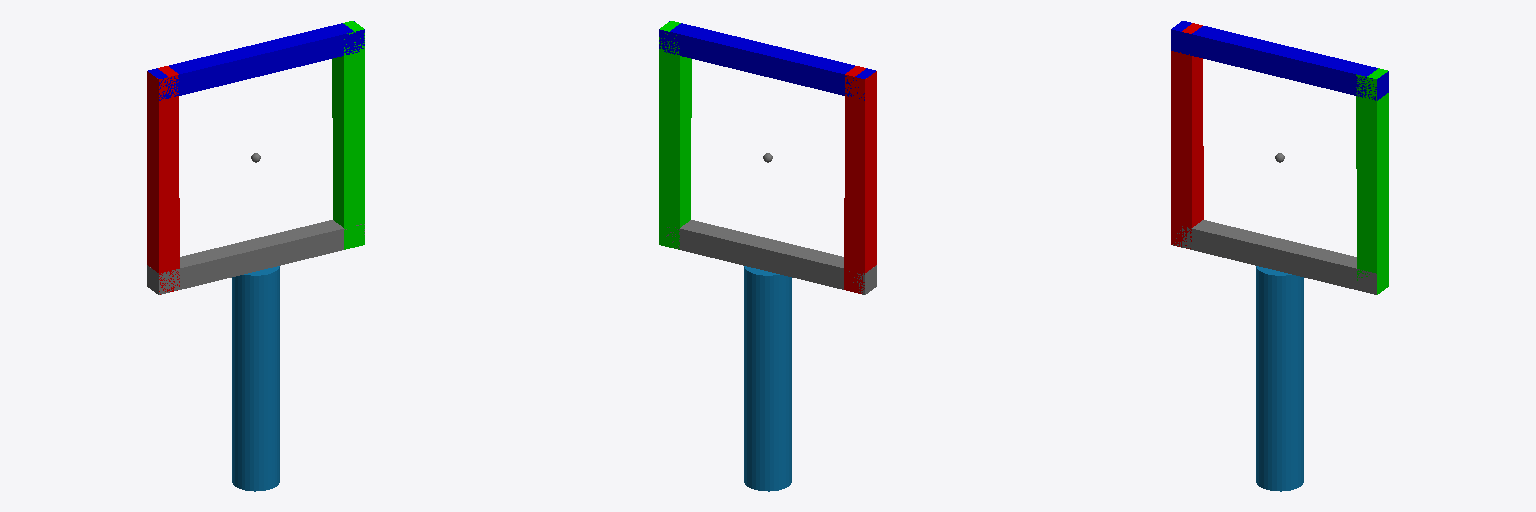
URDF robot description (architrave):
<?xml version="1.0" ?>

<robot name="architrave">

  <link name="base_link"> 
    <inertial>
      <mass value="0.1"/>
      <inertia ixx="0" ixy="0.0" ixz="0.0" iyy="0" iyz="0.0" izz="0"/>
    </inertial>
    <visual>
      <origin rpy="0 0 0" xyz="0 0 0"/>
      <geometry>
        <sphere radius="0.01"/>
      </geometry> 
      <material name="grey">
        <color rgba=".5 .5 .5 1"/>
      </material> 
    </visual>
  </link>



  <link name="grey_edge"> 
    <inertial>
      <origin rpy="0 0 0" xyz="0 0 -0.225"/>
      <mass value="0.25"/>
      <inertia ixx="0" ixy="0.0" ixz="0.0" iyy="0" iyz="0.0" izz="0"/>
    </inertial>
    <visual>
      <origin rpy="0 0 0" xyz="0 0 -0.225"/>
      <geometry>
        <box size=".5 .05 .05" />
      </geometry> 
      <material name="grey">
        <color rgba=".5 .5 .5 1"/>
      </material> 
    </visual>
    <collision>
      <origin rpy="0 0 0" xyz="0 0 -0.225"/>
      <geometry>
        <box size=".5 .05 .05" />
      </geometry>
    </collision>  
  </link>
  <joint name="grey_joint" type="fixed">
    <parent link="base_link"/>
    <child link="grey_edge"/>
  </joint>



  <link name="blue_edge"> 
    <inertial>
      <origin rpy="0 0 0" xyz="0 0 0.225"/>
      <mass value="0.25"/>
      <inertia ixx="0" ixy="0.0" ixz="0.0" iyy="0" iyz="0.0" izz="0"/>
    </inertial>
    <visual>
      <origin rpy="0 0 0" xyz="0 0 0.225"/>
      <geometry>
        <box size=".5 .05 .05" />
      </geometry> 
      <material name="blue">
        <color rgba=".0 .0 .9 1"/>
      </material> 
    </visual>
    <collision>
      <origin rpy="0 0 0" xyz="0 0 0.225"/>
      <geometry>
        <box size=".5 .05 .05" />
      </geometry>
    </collision>  
  </link>
  <joint name="blue_joint" type="fixed">
    <parent link="base_link"/>
    <child link="blue_edge"/>
  </joint>



  <link name="green_edge"> 
    <inertial>
      <origin rpy="0 1.57 0" xyz="0.225 0 0"/>
      <mass value="0.25"/>
      <inertia ixx="0" ixy="0.0" ixz="0.0" iyy="0" iyz="0.0" izz="0"/>
    </inertial>
    <visual>
      <origin rpy="0 1.57 0" xyz="0.225 0 0"/>
      <geometry>
        <box size=".5 .05 .05" />
      </geometry> 
      <material name="green">
        <color rgba=".0 .9 .0 1"/>
      </material> 
    </visual>
    <collision>
      <origin rpy="0 1.57 0" xyz="0.225 0 0"/>
      <geometry>
        <box size=".5 .05 .05" />
      </geometry>
    </collision>  
  </link>
  <joint name="green_joint" type="fixed">
    <parent link="base_link"/>
    <child link="green_edge"/>
  </joint>



  <link name="red_edge"> 
    <inertial>
      <origin rpy="0 1.57 0" xyz="-0.225 0 0"/>
      <mass value="0.25"/>
      <inertia ixx="0" ixy="0.0" ixz="0.0" iyy="0" iyz="0.0" izz="0"/>
    </inertial>
    <visual>
      <origin rpy="0 1.57 0" xyz="-0.225 0 0"/>
      <geometry>
        <box size=".5 .05 .05" />
      </geometry> 
      <material name="red">
        <color rgba=".9 .0 .0 1"/>
      </material> 
    </visual>
    <collision>
      <origin rpy="0 1.57 0" xyz="-0.225 0 0"/>
      <geometry>
        <box size=".5 .05 .05" />
      </geometry>
    </collision>  
  </link>
    <joint name="red_joint" type="fixed">
    <parent link="base_link"/>
    <child link="red_edge"/>
  </joint>


  <link name="support"> 

    <inertial>
      <origin rpy="0 0 0" xyz="0 0 -0.5"/>
      <mass value="1.0"/>
      <inertia ixx="0" ixy="0.0" ixz="0.0" iyy="0" iyz="0.0" izz="0"/>
    </inertial>

    <visual>
      <origin rpy="0 0 0" xyz="0 0 -0.5"/>
      <geometry>
        <cylinder length=".5" radius="0.05" />
      </geometry> 
      <material name="kindablue">
        <color rgba=".1 .5 .7 0.8"/>
      </material> 
    </visual>

    <collision>
      <origin rpy="0 0 0" xyz="0 0 -0.5"/>
      <geometry>
        <cylinder length=".5" radius="0.05" />
      </geometry>
    </collision>  

  </link>
    <joint name="support_joint" type="fixed">
    <parent link="base_link"/>
    <child link="support"/>
  </joint>


</robot>

--- Render facts (derived) ---
3 views of the same robot in one strip: view 1: azimuth 30°, elevation 25°; view 2: azimuth 150°, elevation 25°; view 3: azimuth 330°, elevation 25° (orthographic).
Model architrave with 6 links and 5 joints (5 fixed), rooted at base_link, posed all joints at 0.
Links seen in each view (by area): view 1: support, red_edge, blue_edge, green_edge, grey_edge; view 2: support, red_edge, green_edge, blue_edge, grey_edge; view 3: support, blue_edge, green_edge, grey_edge, red_edge.
Boxes of the visible links, x1=… form: support: x1=232, y1=266, x2=279, y2=491; red_edge: x1=147, y1=66, x2=179, y2=294; blue_edge: x1=148, y1=21, x2=364, y2=100; green_edge: x1=332, y1=21, x2=364, y2=249; grey_edge: x1=147, y1=220, x2=364, y2=294; support: x1=744, y1=266, x2=791, y2=491; red_edge: x1=844, y1=66, x2=876, y2=293; green_edge: x1=659, y1=21, x2=691, y2=249; blue_edge: x1=659, y1=21, x2=875, y2=100; grey_edge: x1=666, y1=220, x2=876, y2=294; support: x1=1256, y1=266, x2=1303, y2=491; blue_edge: x1=1171, y1=21, x2=1388, y2=100; green_edge: x1=1356, y1=68, x2=1388, y2=294; grey_edge: x1=1173, y1=220, x2=1376, y2=294; red_edge: x1=1171, y1=23, x2=1203, y2=248.
Bounding box of the posed robot: 0.5004 × 0.1 × 1 m (x, y, z).
Geometry: primitives only (box / cylinder / sphere), no mesh files.